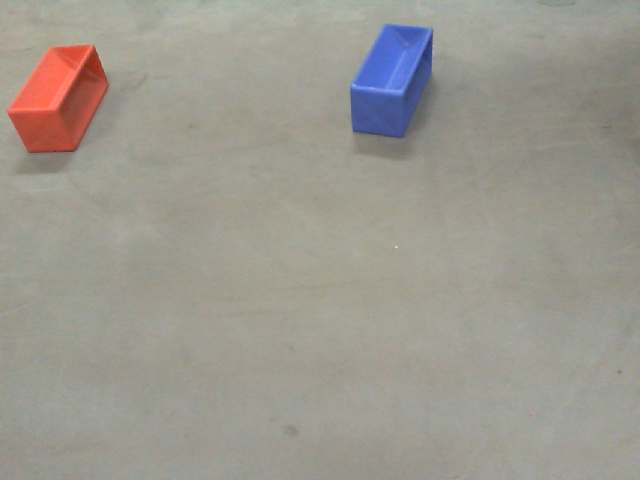BlueSample: (343, 21, 438, 139)
RedSample: (6, 44, 112, 155)
